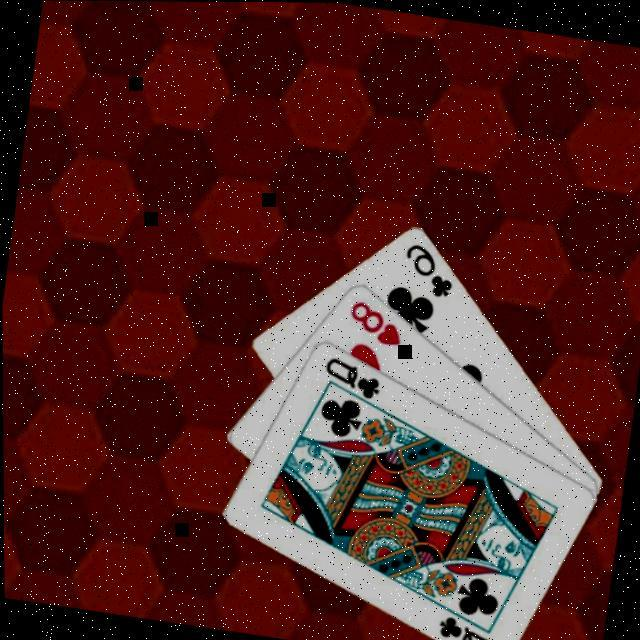6C: (398, 236, 460, 299)
8H: (342, 294, 410, 348)
QC: (319, 350, 386, 400), (432, 608, 500, 640)
